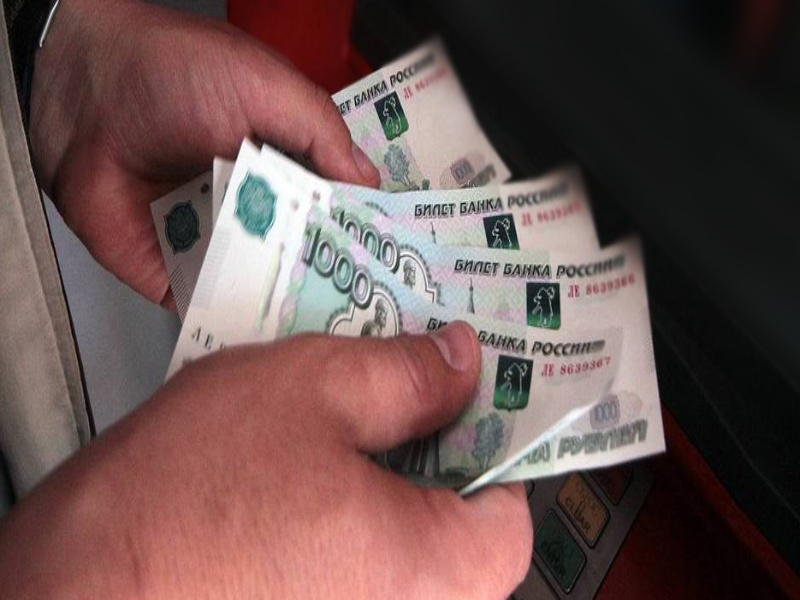cash: (148, 35, 669, 495)
